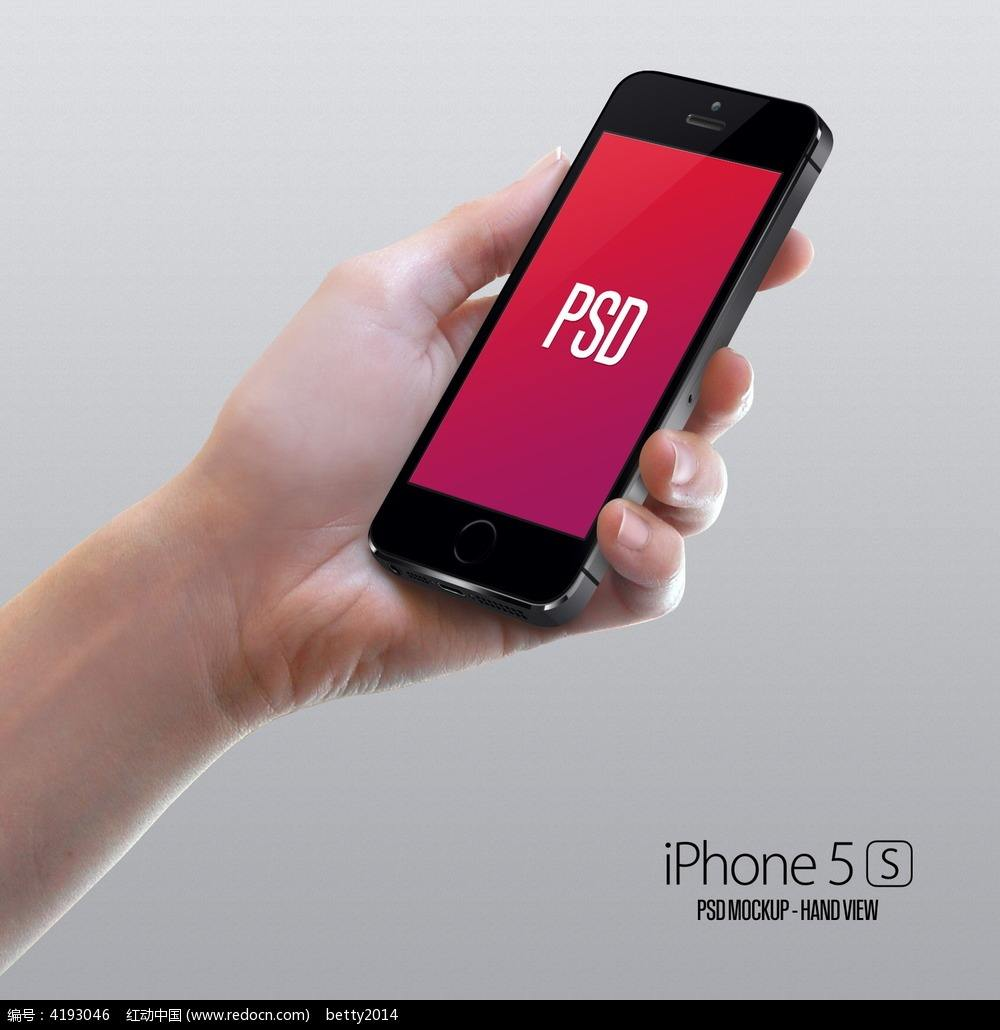phone: (200, 66, 835, 722)
